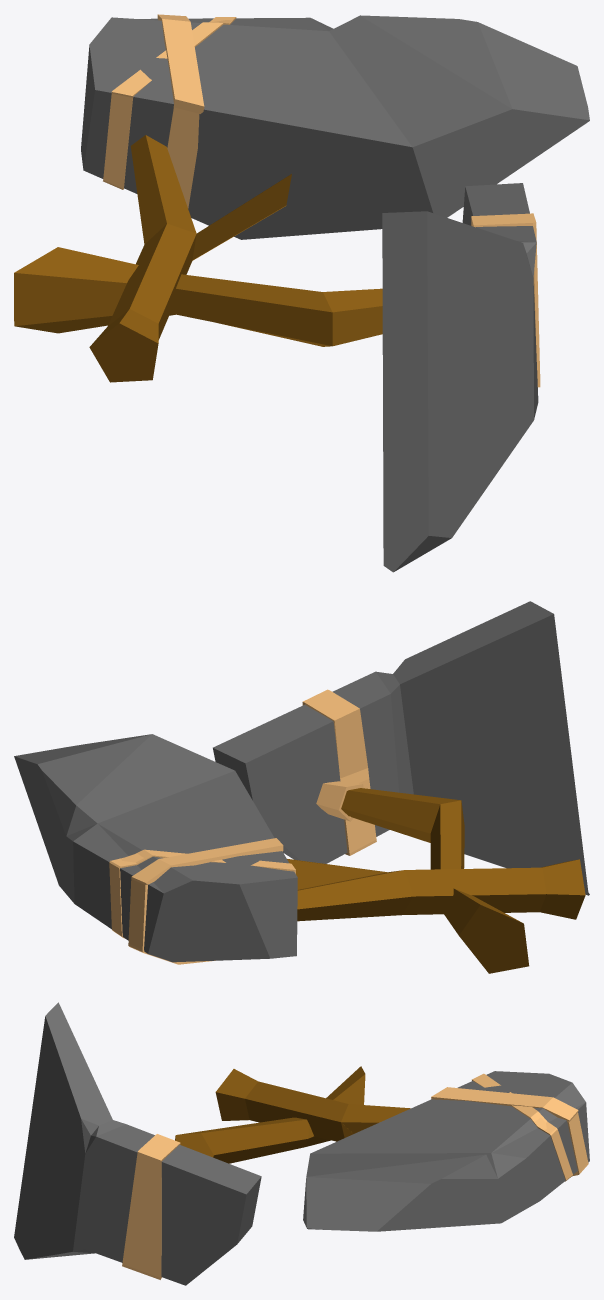
File: StoneTools.fbx
3 views of the same model, one above another, from view 1: azimuth 30°, elevation 25°; view 2: azimuth 150°, elevation 25°; view 3: azimuth 270°, elevation 25° (orthographic). The views are drawn at different scales.
Parts seen in each view (by area): view 1: Cube.001; view 2: Cube.001; view 3: Cube.001.
Part boxes in pixels (x1,y1,x2,y2): Cube.001: [14, 14, 589, 572]; Cube.001: [14, 601, 589, 973]; Cube.001: [14, 1002, 589, 1285].
Size of the model in its own units: 375 by 209 by 431.
